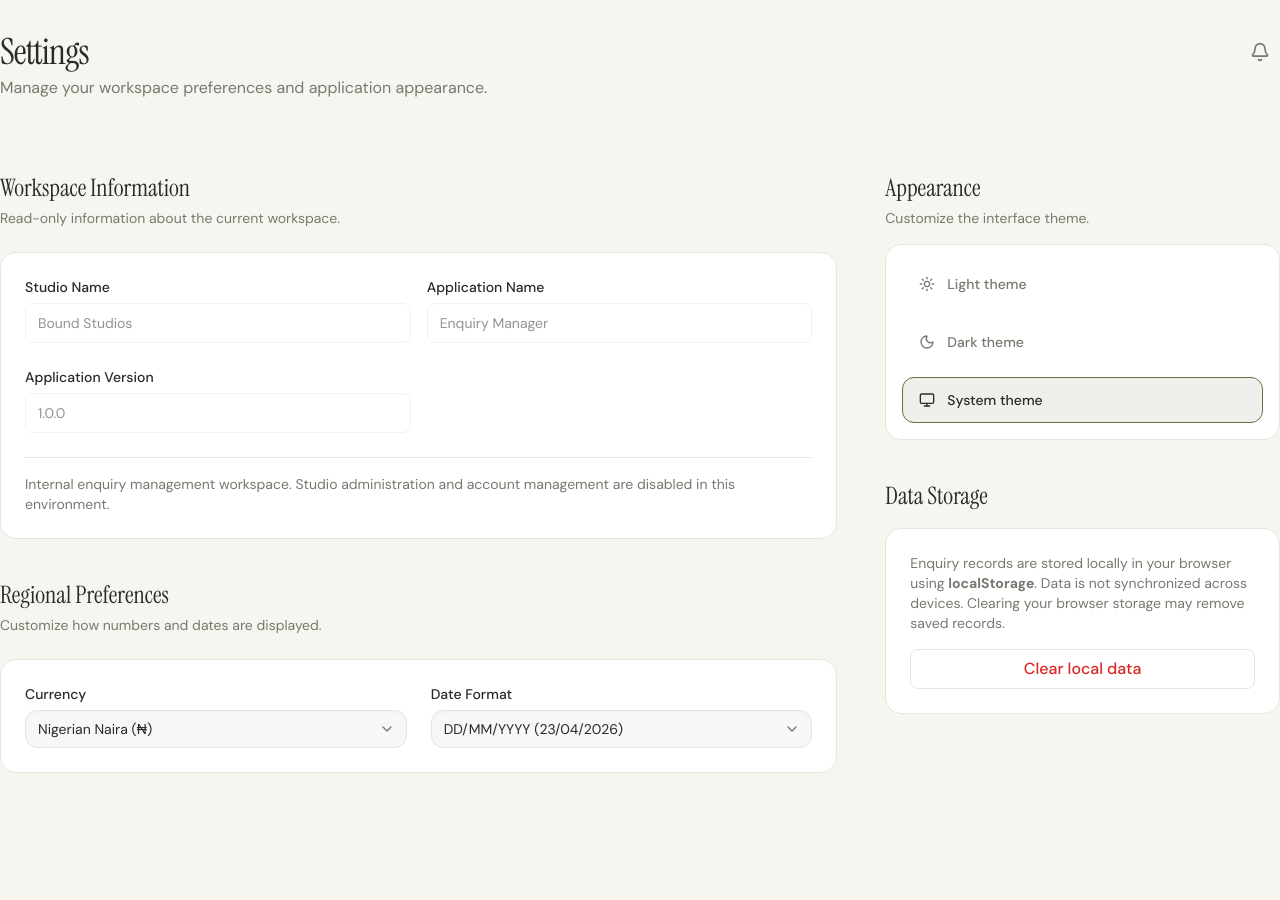
it: Settings page › opens the clear-data confirmation dialog
Click the button "Clear local data" at {"x": 1083, "y": 669}, box [910,649,1255,689]
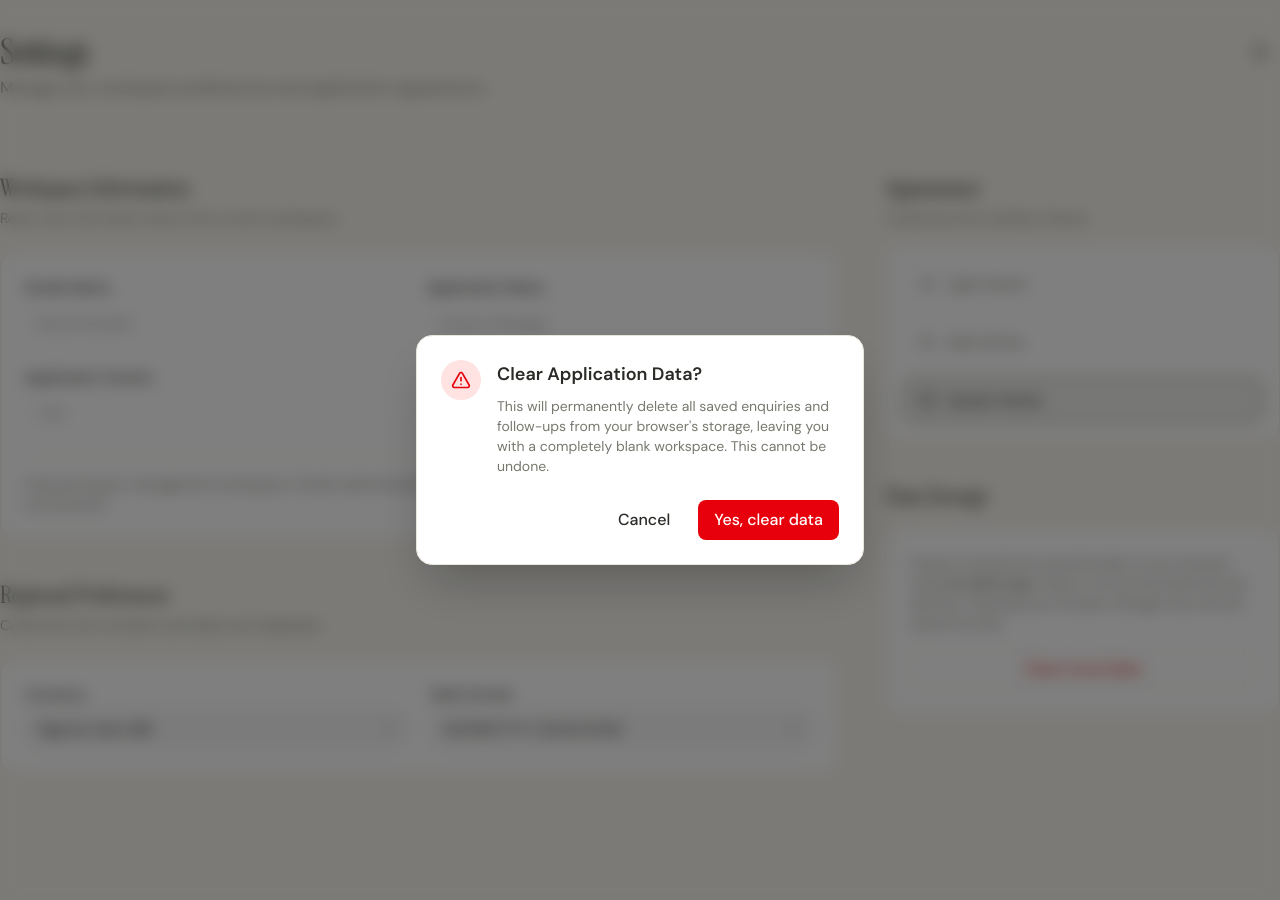
Expected: the heading "Clear Application Data?" is shown, [497,362,702,386]
Expected: the button "Yes, clear data" is shown, [698,500,839,540]
